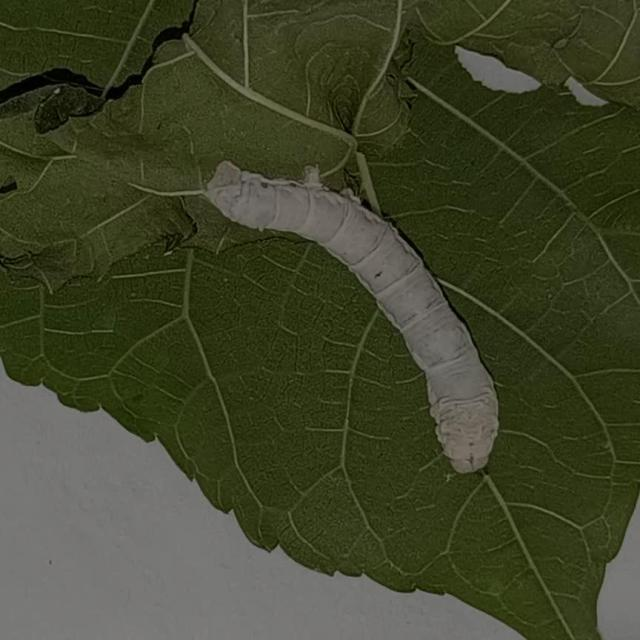Healthy: (170, 118, 524, 538)
